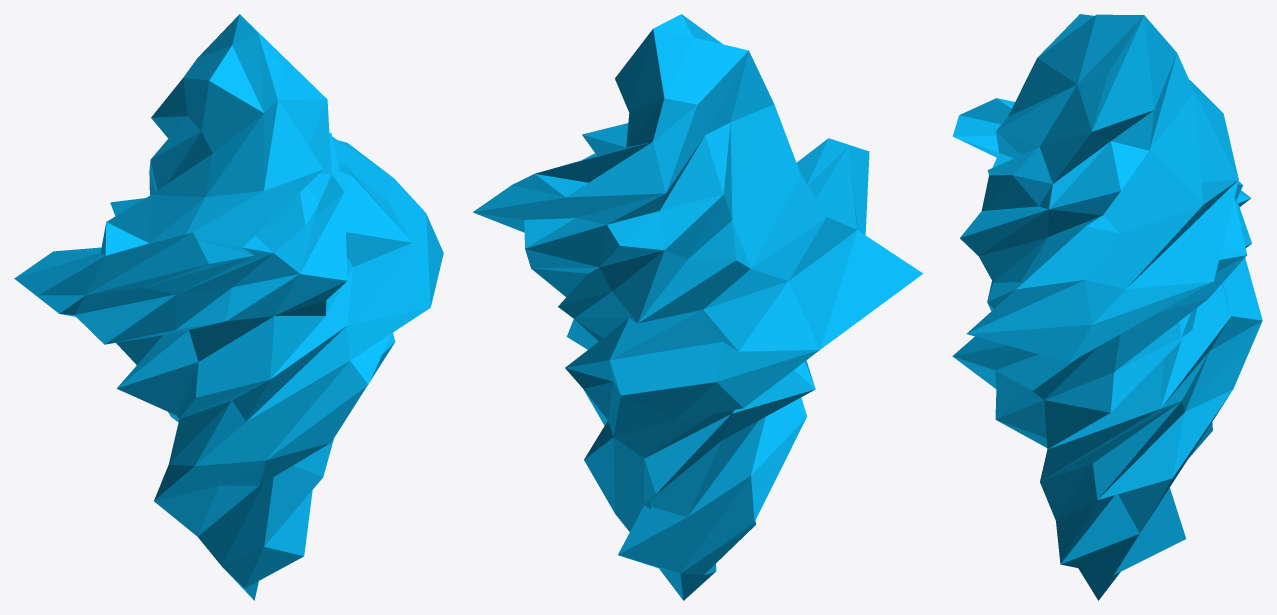
File: Crystal_009.fbx
3 renders of one model, left to right at view 1: azimuth 30°, elevation 25°; view 2: azimuth 150°, elevation 25°; view 3: azimuth 270°, elevation 25°, orthographic. The views are drawn at different scales.
Parts seen in each view (by area): view 1: Crystal.009; view 2: Crystal.009; view 3: Crystal.009.
Boxes of the visible parts, box(x1,y1,x2,y2) form: Crystal.009: box(14, 14, 443, 600); Crystal.009: box(473, 14, 923, 600); Crystal.009: box(952, 14, 1262, 600).
Size of the model in its own units: 326 by 443 by 211.
